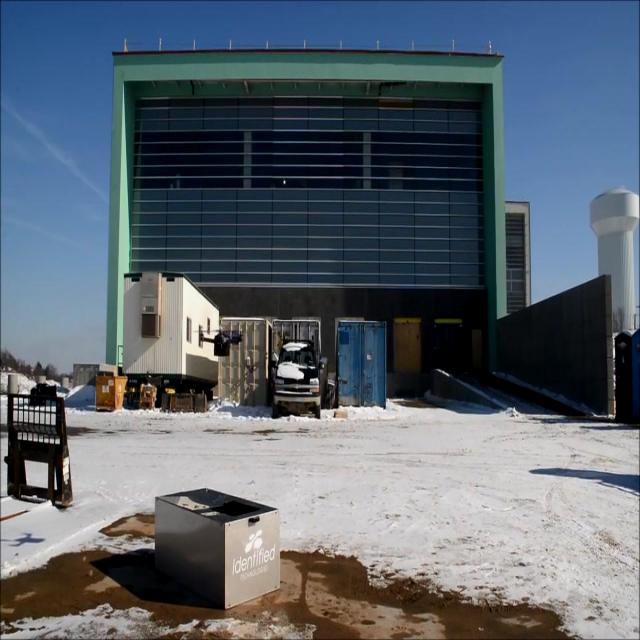drone: (195, 321, 246, 361)
